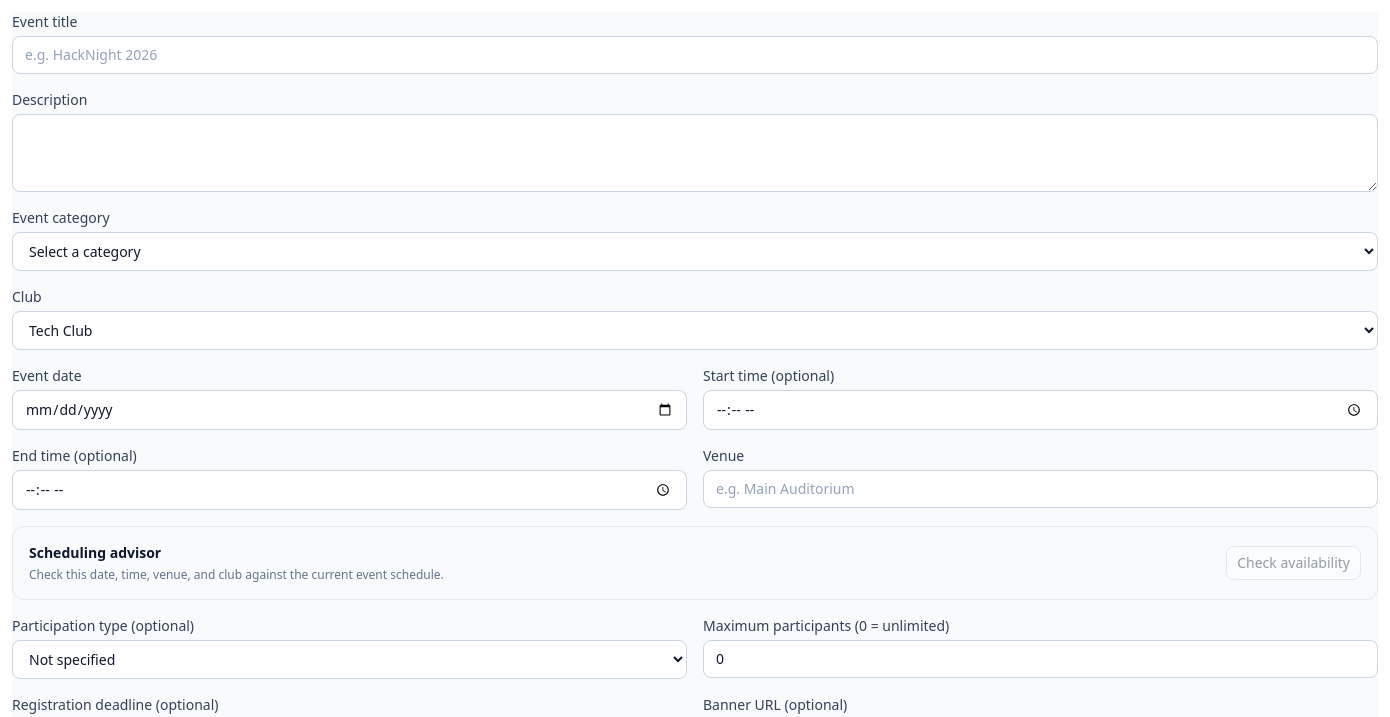
EventForm scheduling advisor › retries a failed request and renders the successful response
The image size is (1390, 717).
Type "2026-06-15" into the date field labelled "Event date" at [350, 410], box [12,390,687,430]
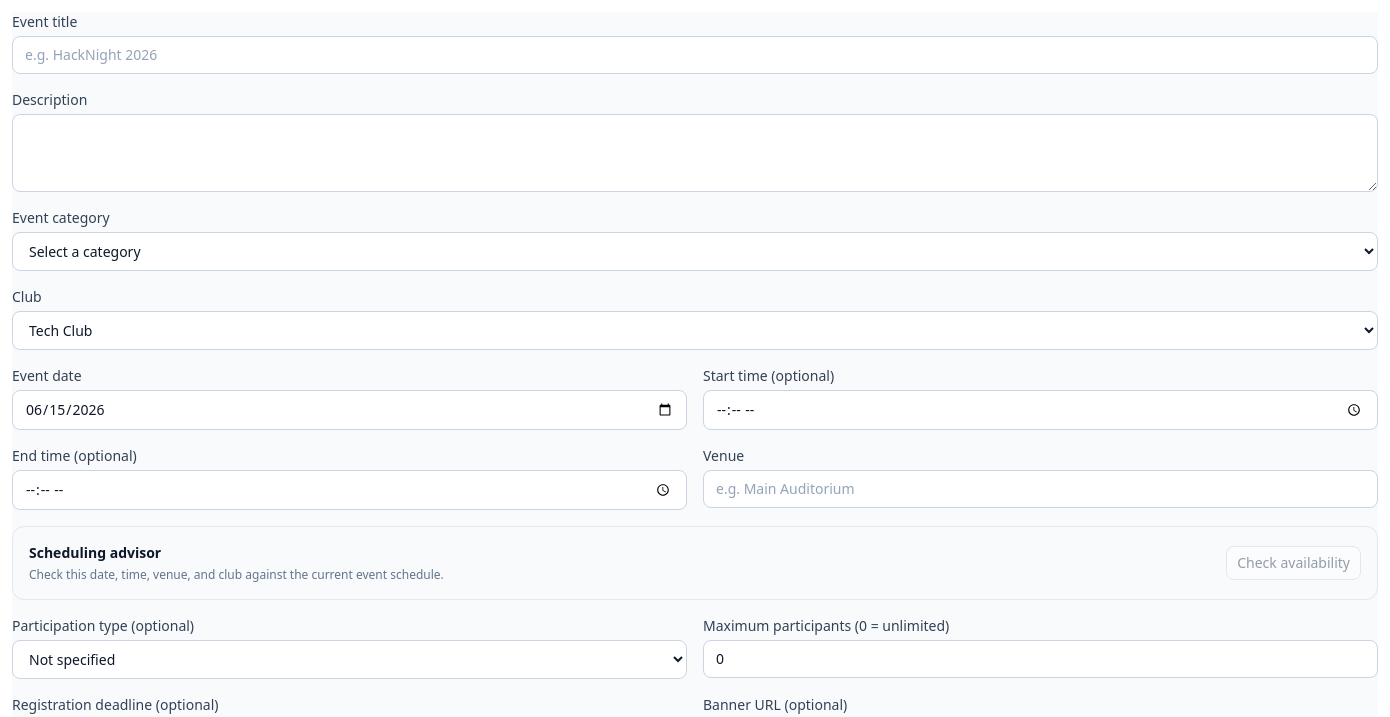
Type "10:00" into the time field labelled "Start time (optional)" at [1040, 410], box [703,390,1378,430]
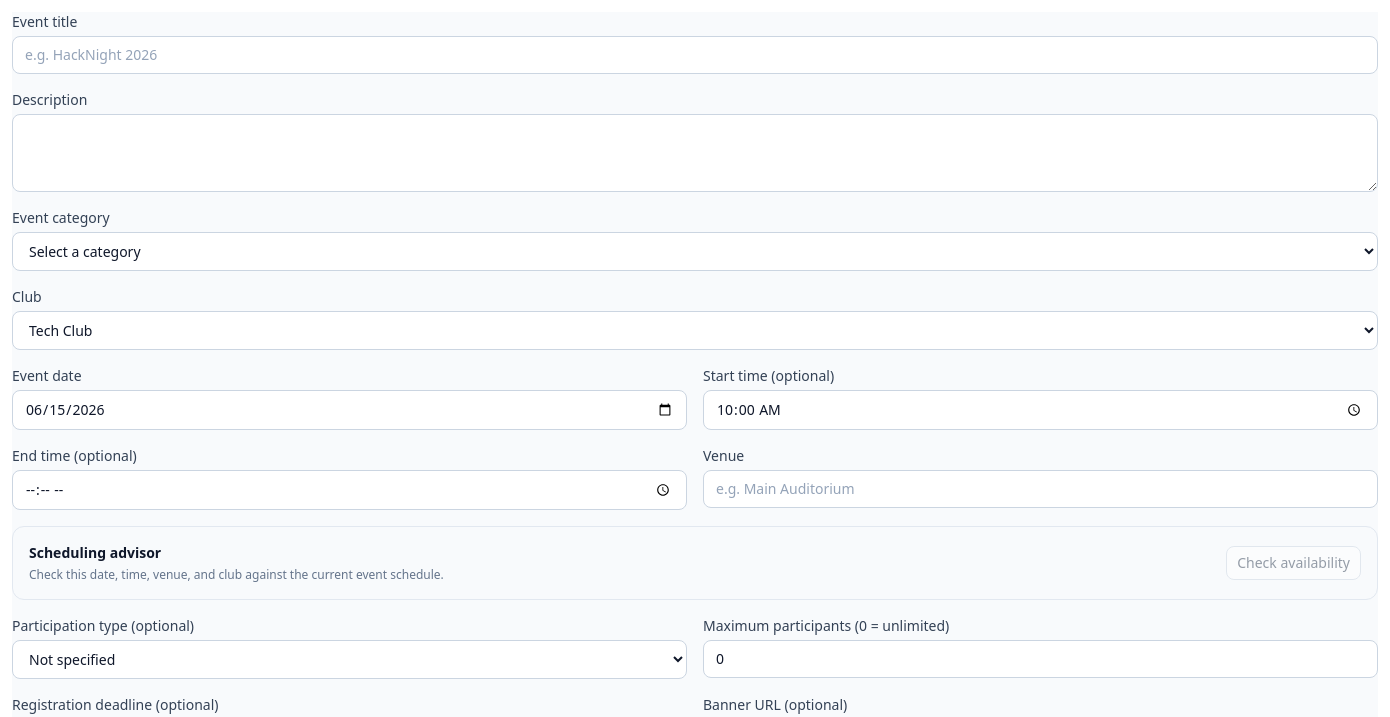
Type "11:00" into the time field labelled "End time (optional)" at [350, 490], box [12,470,687,510]
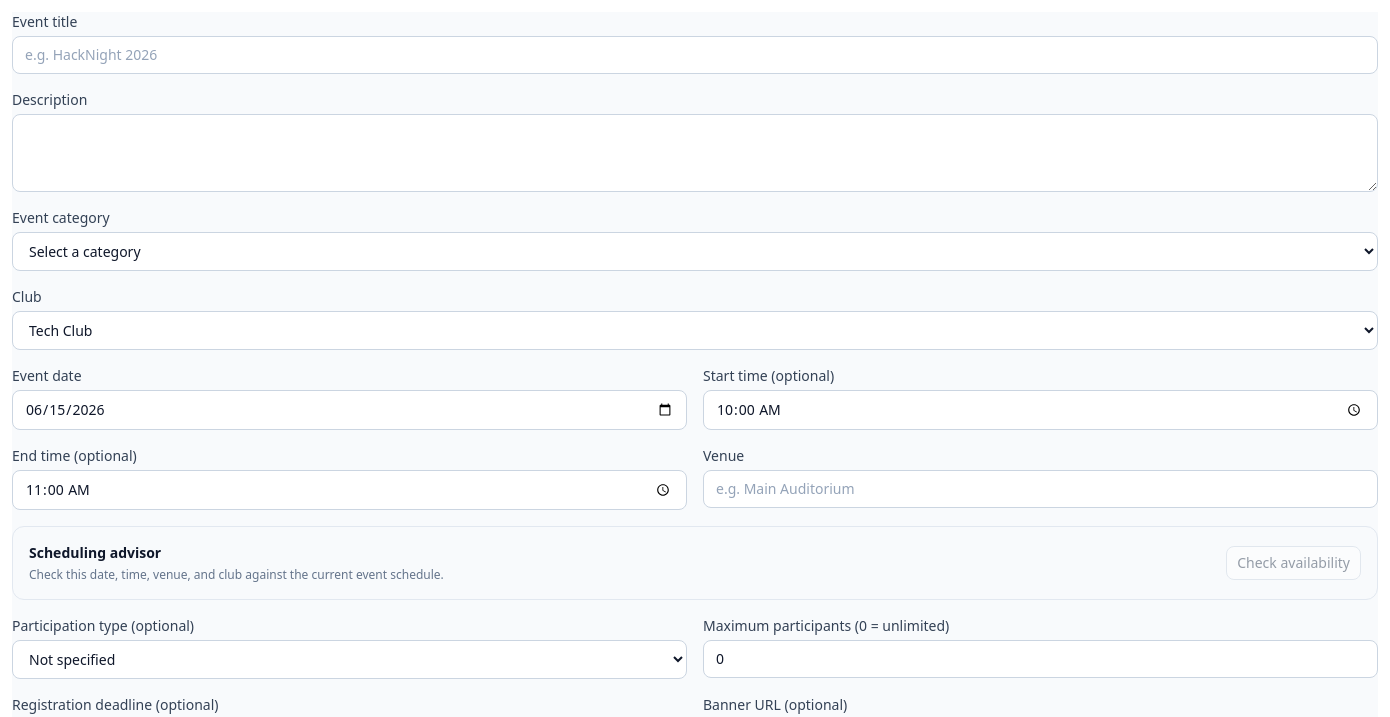
Type "Main Hall" into the field labelled "Venue" at [1040, 489], box [703,470,1378,508]
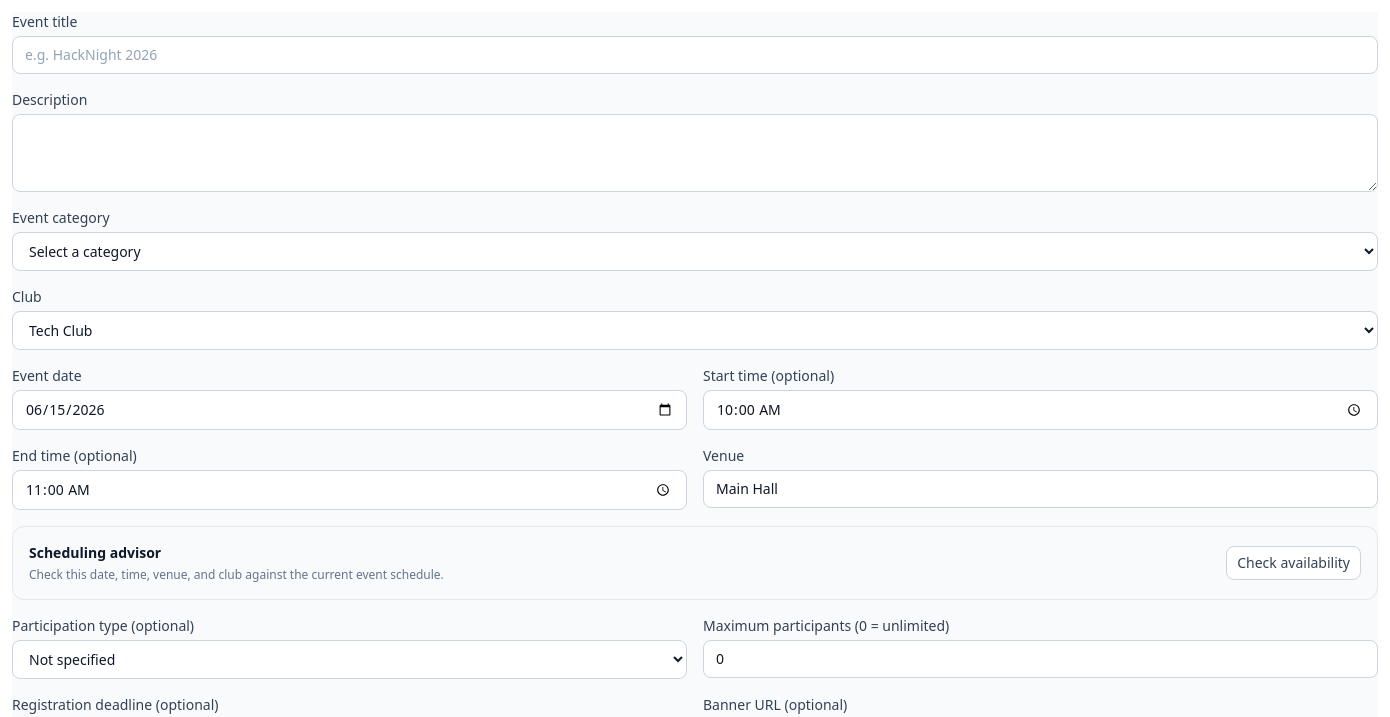
Click the button "Check availability" at [1294, 563], box [1226,546,1361,580]
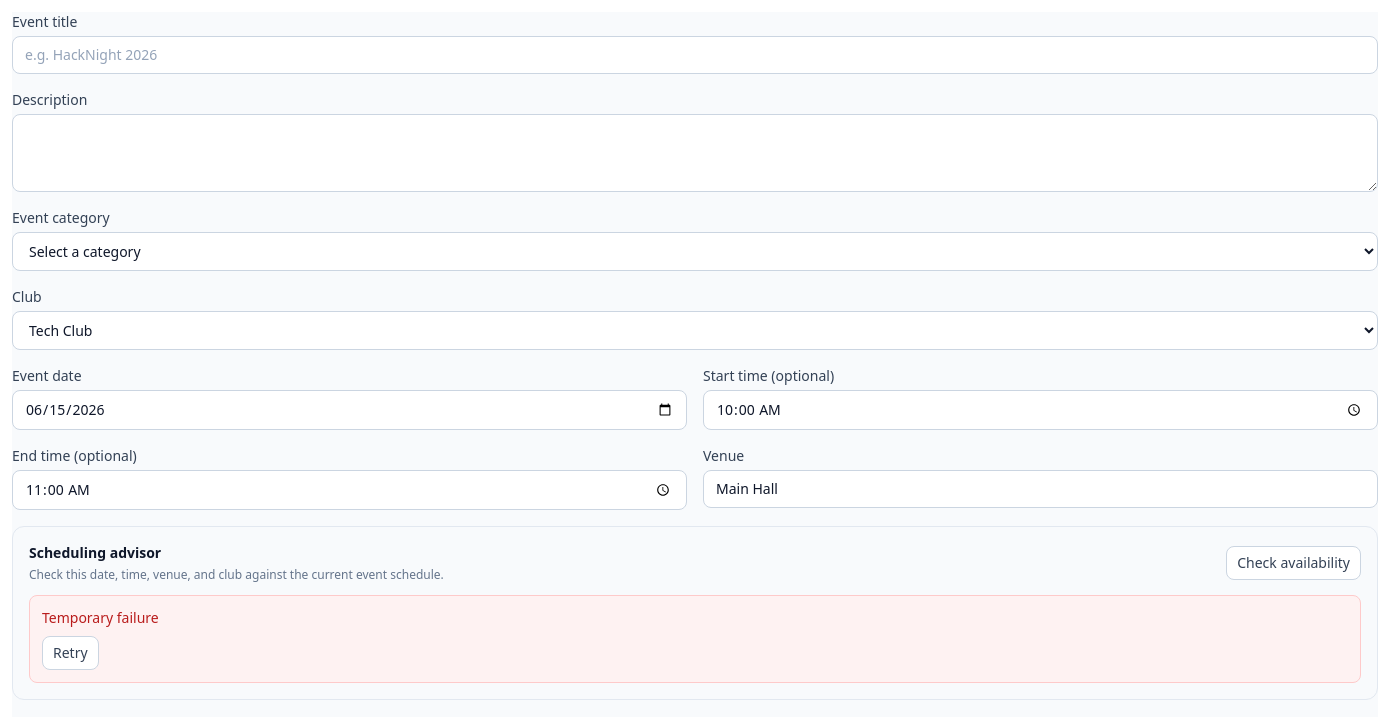
Click the button "Retry" at [70, 653], box [42,636,99,670]
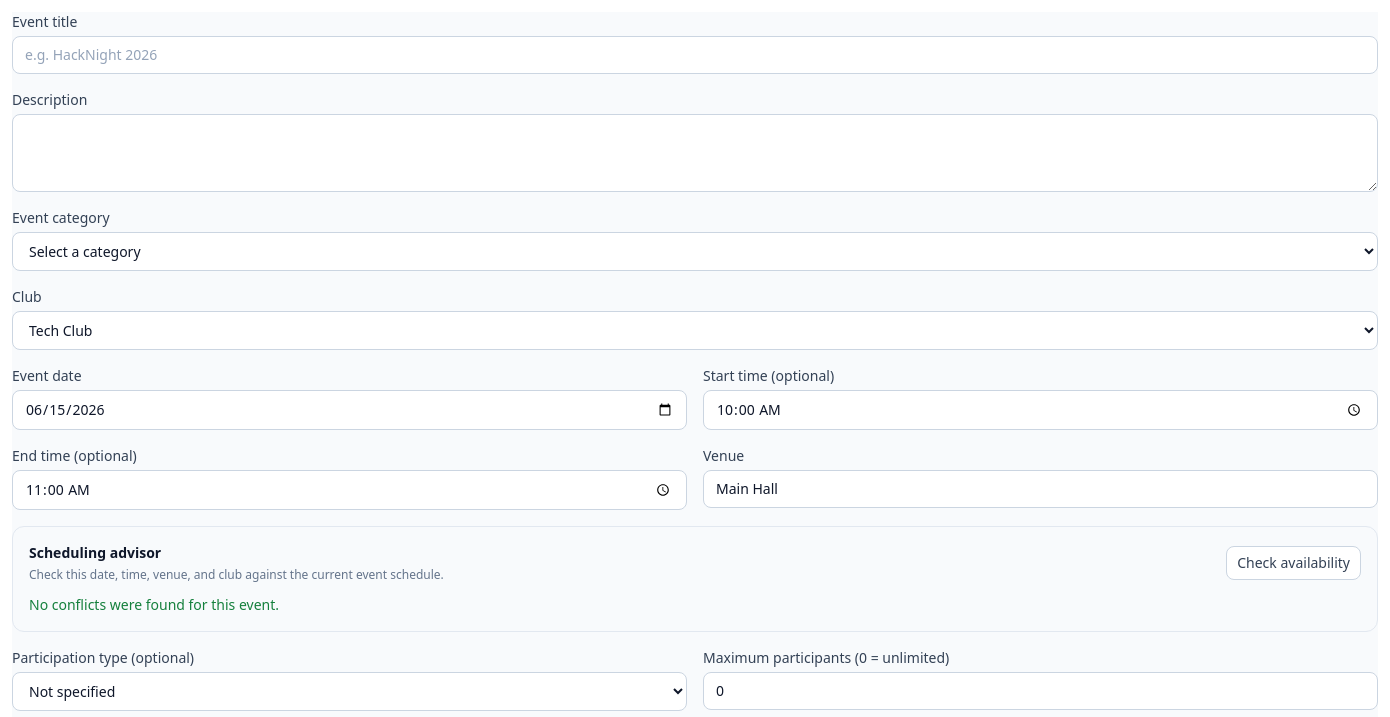
Expected: the text "No conflicts were found for this event." is shown, [29,595,279,614]
